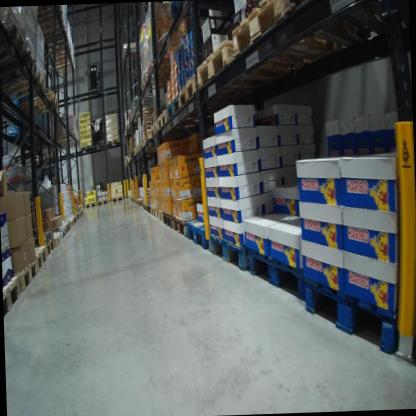pallet: (231, 0, 370, 88), (301, 266, 399, 363), (191, 33, 313, 94), (243, 239, 308, 313), (204, 225, 252, 279), (6, 62, 52, 110), (19, 86, 62, 126), (0, 15, 27, 72), (8, 45, 41, 86), (175, 62, 200, 113), (9, 257, 37, 294), (182, 217, 209, 255), (2, 275, 22, 322), (139, 71, 182, 91), (44, 50, 75, 77), (146, 57, 182, 80), (26, 241, 48, 273), (163, 92, 179, 128), (154, 108, 171, 136), (170, 213, 187, 240), (55, 132, 81, 149), (40, 240, 56, 260), (141, 128, 158, 144), (150, 118, 160, 141), (64, 217, 75, 236), (106, 134, 120, 148), (162, 211, 172, 230), (79, 142, 92, 156), (111, 195, 129, 204), (52, 233, 62, 248), (150, 204, 157, 223), (96, 198, 109, 207), (155, 208, 162, 224), (93, 139, 105, 147), (65, 222, 71, 235), (72, 214, 78, 227), (85, 201, 96, 208)
